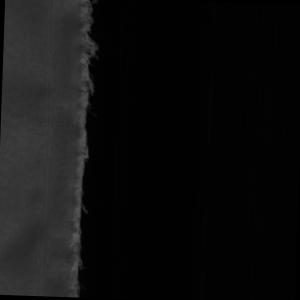Damage: (52, 1, 108, 299)
